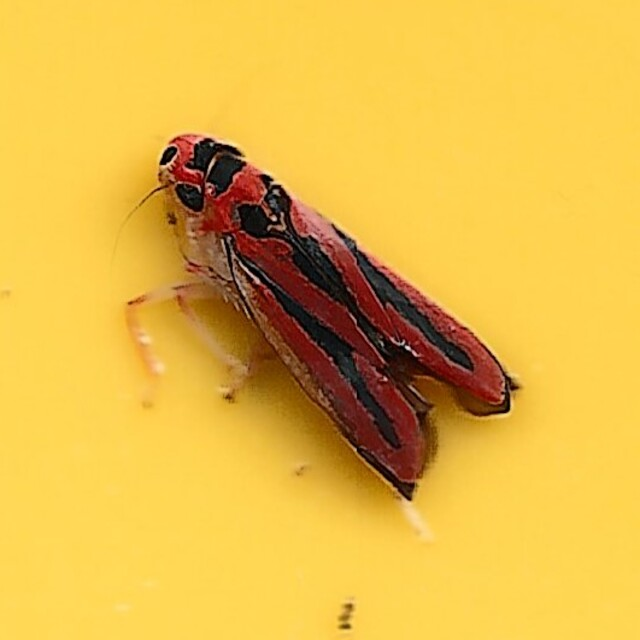Hemiptera: (121, 134, 519, 506)
